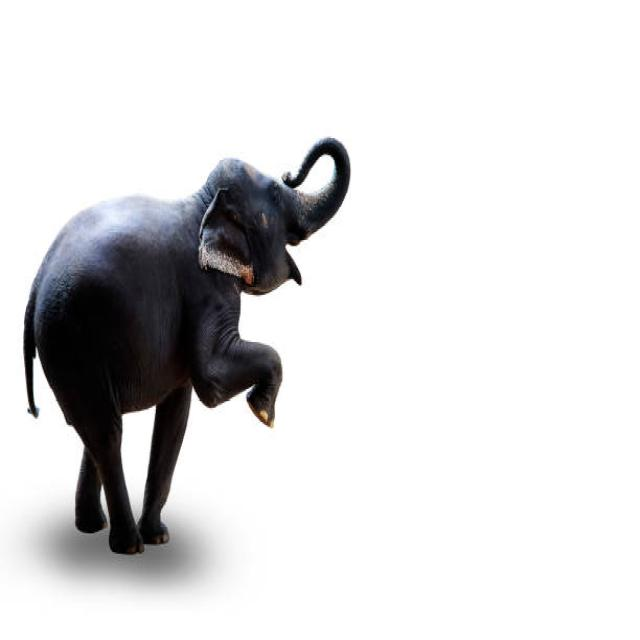Elephant: (13, 132, 354, 568)
